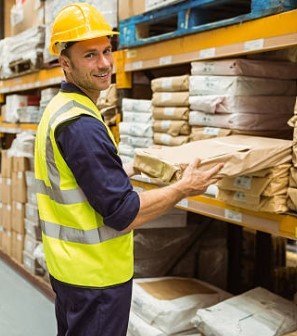worker: (34, 2, 135, 286)
